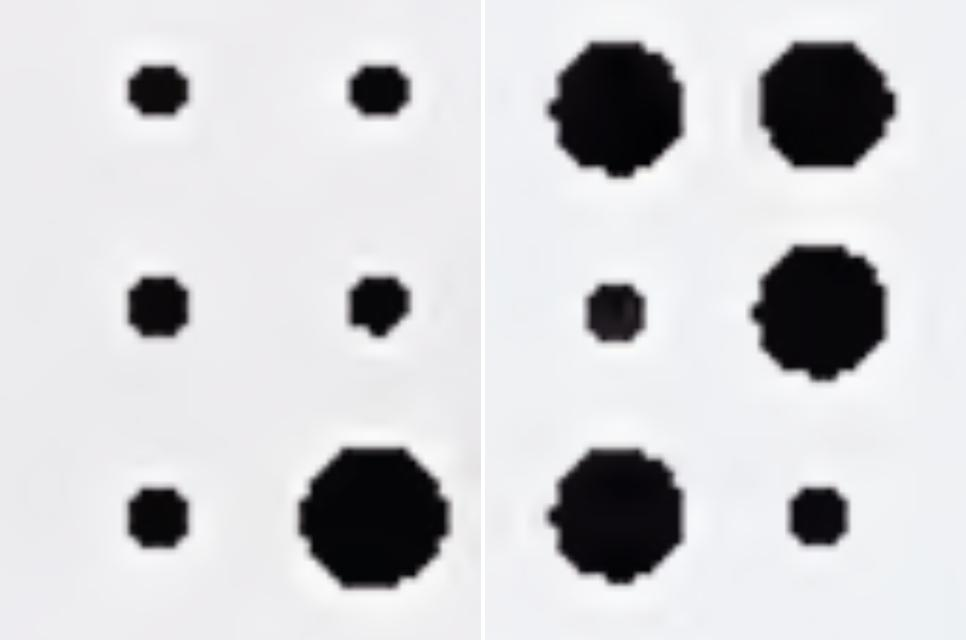N: (555, 40, 888, 590)
capital: (127, 65, 450, 589)
